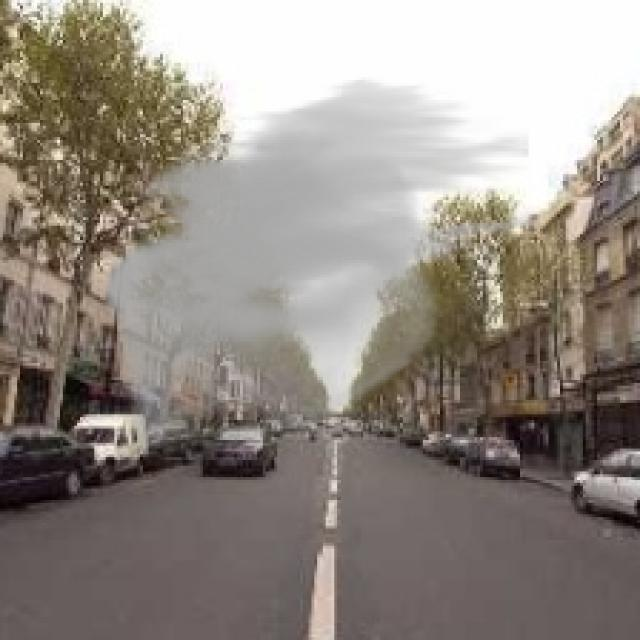Smoke: (102, 74, 528, 443)
